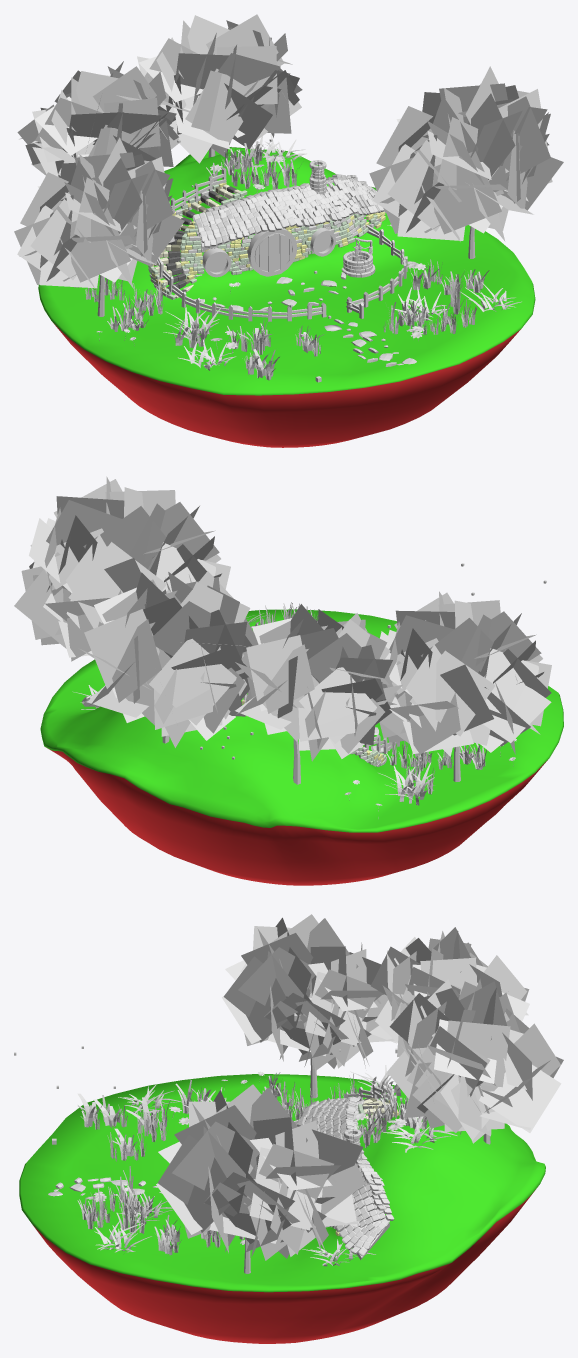
Rendered from HobbitScene.fbx.
The picture shows the model from 3 angles, top to bottom: view 1: azimuth 30°, elevation 25°; view 2: azimuth 150°, elevation 25°; view 3: azimuth 270°, elevation 25°; orthographic projection. The views are drawn at different scales.
Visible parts, largest first — view 1: Trees, Terrain, Small Grass, Roof, Walls, Fences, Doors and Windows, Flat Grass, Stairs, Rocks, Well, Flowers; view 2: Trees, Terrain, Small Grass, Flat Grass; view 3: Trees, Terrain, Small Grass, Roof, Flat Grass, Rocks, Flowers, Fences.
Boxes of the visible parts, x1=… form: Trees: x1=14, y1=14, x2=563, y2=316; Terrain: x1=38, y1=147, x2=535, y2=447; Small Grass: x1=85, y1=141, x2=489, y2=380; Roof: x1=192, y1=160, x2=385, y2=250; Walls: x1=148, y1=182, x2=385, y2=299; Fences: x1=154, y1=167, x2=407, y2=321; Doors and Windows: x1=202, y1=227, x2=336, y2=277; Flat Grass: x1=74, y1=133, x2=521, y2=370; Stairs: x1=154, y1=184, x2=241, y2=298; Rocks: x1=192, y1=272, x2=416, y2=366; Well: x1=341, y1=237, x2=375, y2=277; Flowers: x1=96, y1=155, x2=425, y2=353; Trees: x1=14, y1=476, x2=551, y2=784; Terrain: x1=40, y1=609, x2=563, y2=885; Small Grass: x1=242, y1=602, x2=486, y2=794; Flat Grass: x1=72, y1=613, x2=434, y2=805; Trees: x1=156, y1=914, x2=563, y2=1273; Terrain: x1=19, y1=1074, x2=545, y2=1343; Small Grass: x1=77, y1=1072, x2=427, y2=1255; Roof: x1=296, y1=1096, x2=394, y2=1259; Flat Grass: x1=94, y1=1065, x2=457, y2=1266; Rocks: x1=48, y1=1177, x2=161, y2=1196; Flowers: x1=86, y1=1071, x2=406, y2=1244; Fences: x1=239, y1=1083, x2=396, y2=1239.
Bounding box in the file's own units: 1089 × 617 × 974.
